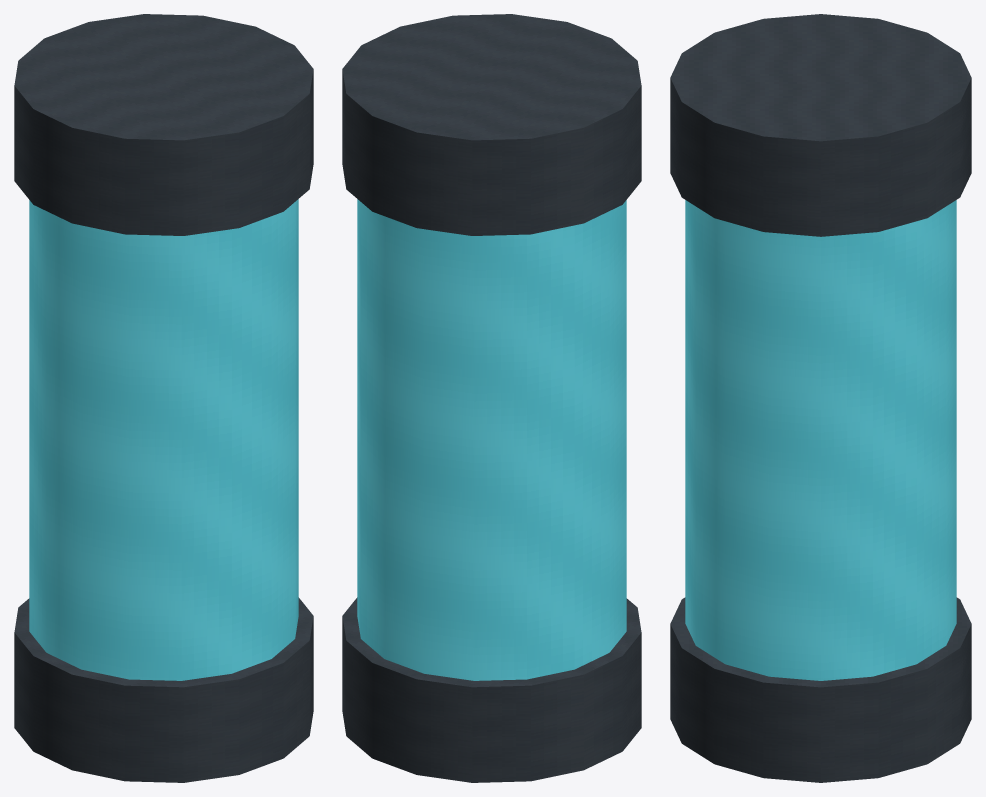
The picture shows the model from 3 angles, left to right: view 1: azimuth 30°, elevation 25°; view 2: azimuth 150°, elevation 25°; view 3: azimuth 270°, elevation 25°; orthographic projection.
Parts seen in each view (by area): view 1: crystal.0, iron.2, iron.1; view 2: crystal.0, iron.2, iron.1; view 3: crystal.0, iron.2, iron.1.
Boxes of the visible parts, <box> form: crystal.0: <box>29,199,298,680</box>; iron.2: <box>14,14,313,235</box>; iron.1: <box>14,597,313,782</box>; crystal.0: <box>357,199,626,680</box>; iron.2: <box>342,14,641,235</box>; iron.1: <box>342,597,641,782</box>; crystal.0: <box>685,200,956,680</box>; iron.2: <box>670,14,971,236</box>; iron.1: <box>670,597,971,782</box>.
Bounding box in the file's own units: 0.1 × 0.235 × 0.1.
Materials: 2 (2 with a texture image).
